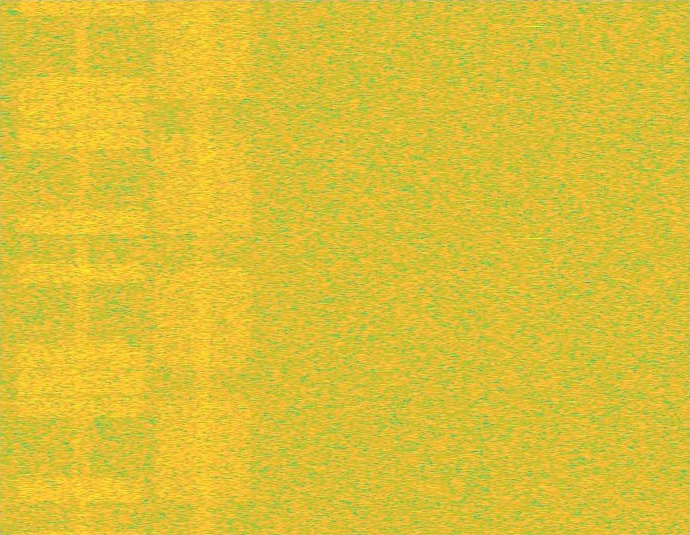5G: (151, 0, 255, 534)
DSSS: (191, 0, 215, 534), (72, 0, 91, 534)
LTE: (13, 0, 151, 534)
Radar: (528, 0, 542, 534)
